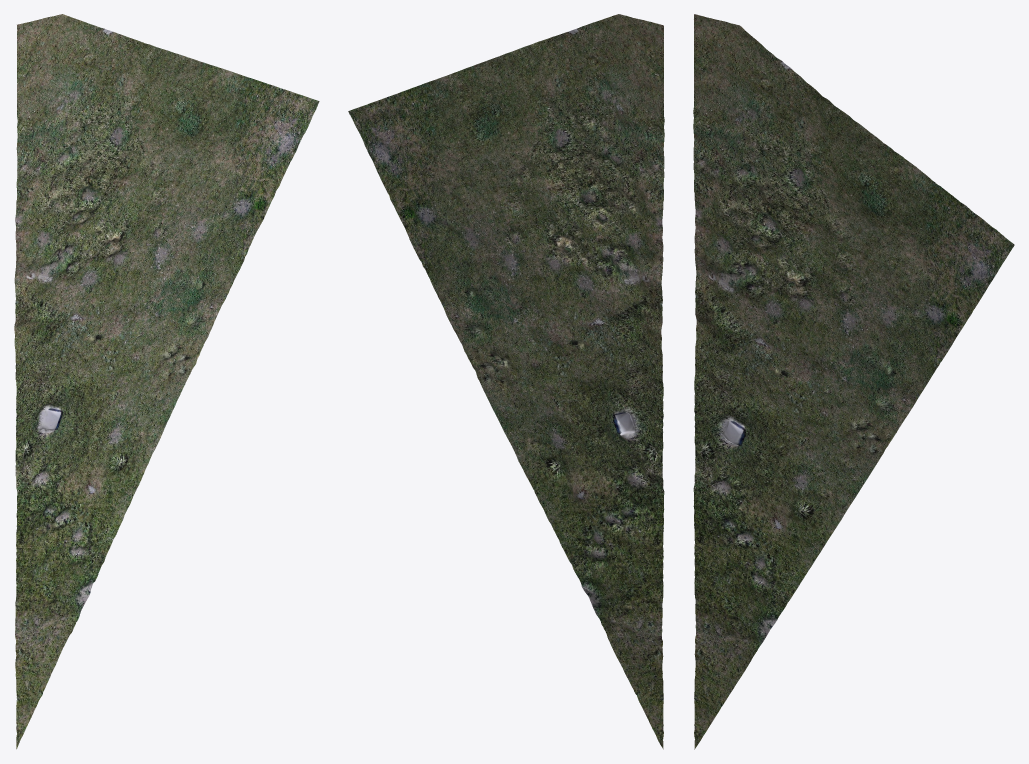
File: Tile_6.fbx
The picture shows the model from 3 angles, left to right: view 1: azimuth 30°, elevation 25°; view 2: azimuth 150°, elevation 25°; view 3: azimuth 330°, elevation 25°; orthographic projection.
Parts seen in each view (by area): view 1: DefaultName; view 2: DefaultName; view 3: DefaultName.
Boxes of the visible parts, <box> form: DefaultName: <box>14,14,319,749</box>; DefaultName: <box>348,14,664,749</box>; DefaultName: <box>693,14,1014,749</box>.
Size of the model in its own units: 10.45 by 23.41 by 0.4962.
Materials: 1 (1 with a texture image).
